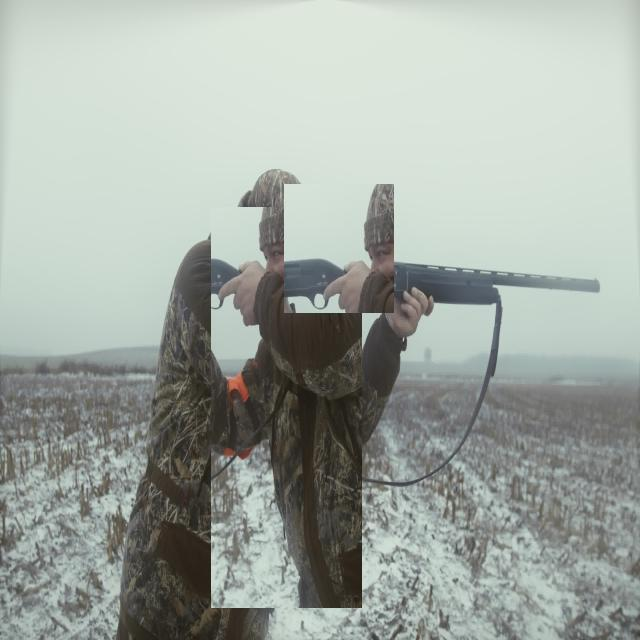poacher: (211, 207, 362, 608)
weapon: (284, 184, 394, 313)
